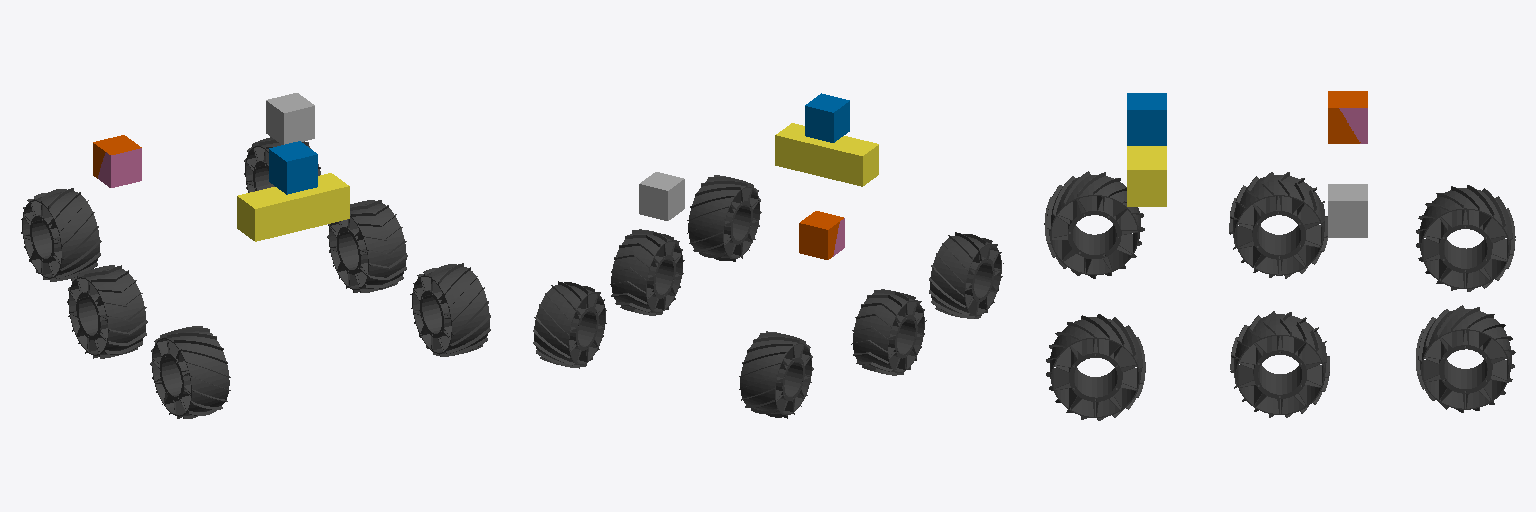
--- Render facts (derived) ---
3 views of the same robot in one strip: view 1: azimuth 30°, elevation 25°; view 2: azimuth 150°, elevation 25°; view 3: azimuth 270°, elevation 25° (orthographic).
Model roar with 16 links and 15 joints (8 continuous, 7 fixed), rooted at base_link, posed all joints at 0.
Visible links, largest first — view 1: wheel_rhs_mid, wheel_lhs_front, wheel_rhs_front, wheel_rhs_rear, wheel_lhs_mid, camera_link, camera_link_optical, left_camera_link, right_camera_link_optical, wheel_lhs_rear, right_camera_link; view 2: wheel_rhs_mid, wheel_lhs_mid, wheel_rhs_rear, wheel_lhs_front, wheel_rhs_front, wheel_lhs_rear, camera_link, left_camera_link, camera_link_optical, right_camera_link; view 3: wheel_rhs_rear, wheel_lhs_front, wheel_lhs_rear, wheel_lhs_mid, wheel_rhs_mid, wheel_rhs_front, camera_link, left_camera_link, camera_link_optical, right_camera_link, right_camera_link_optical.
Boxes of the visible links, x1,y1,x2,y2 form: wheel_rhs_mid: (67,265,147,358); wheel_lhs_front: (410,263,490,356); wheel_rhs_front: (150,326,230,418); wheel_rhs_rear: (21,188,101,281); wheel_lhs_mid: (327,200,407,292); camera_link: (237,173,349,241); camera_link_optical: (269,141,317,194); left_camera_link: (266,93,314,144); right_camera_link_optical: (98,148,141,187); wheel_lhs_rear: (244,137,320,192); right_camera_link: (93,135,141,178); wheel_rhs_mid: (851,289,926,375); wheel_lhs_mid: (610,229,684,315); wheel_rhs_rear: (739,331,813,418); wheel_lhs_front: (687,175,761,261); wheel_rhs_front: (929,232,1003,318); wheel_lhs_rear: (533,281,606,368); camera_link: (775,123,878,186); left_camera_link: (639,172,684,220); camera_link_optical: (805,93,849,142); right_camera_link: (799,211,843,259); wheel_rhs_rear: (1416,185,1515,291); wheel_lhs_front: (1046,314,1145,420); wheel_lhs_rear: (1416,305,1515,412); wheel_lhs_mid: (1230,311,1329,417); wheel_rhs_mid: (1229,172,1327,278); wheel_rhs_front: (1044,171,1144,278); camera_link: (1127,146,1166,206); left_camera_link: (1328,184,1367,237); camera_link_optical: (1127,93,1166,145); right_camera_link: (1328,91,1367,143); right_camera_link_optical: (1339,108,1367,143).
Size in the robot's own frame: 0.949 by 1.17 by 0.6557 metres.
6 mesh visuals loaded from 11 distinct referenced files (6 binary STL); not drawn: 5 (reference not matched to a file when rendering).

URDF robot description (roar):
<?xml version="1.0" encoding="utf-8"?>
<!-- This URDF was automatically created by SolidWorks to URDF Exporter! Originally created by Stephen Brawner ([email redacted]) 
     Commit Version: 1.6.0-4-g7f85cfe  Build Version: 1.6.7995.38578
     For more information, please see http://wiki.ros.org/sw_urdf_exporter -->
<robot name="roar">
    <link name="base_link">
        <inertial>
            <origin xyz="0.628154468741611 0.22696721067361 0.102881142020051" rpy="0 1.5708 0" />
            <mass value="10.4781846932198" />
            <inertia ixx="0.0528232194707055" ixy="-6.76686850711326E-06" ixz="0.000283100285033161" iyy="0.0910292285419052" iyz="0.00115869898869112" izz="0.0533924845818516" />
        </inertial>
        <visual>
            <origin xyz="0 0 0" rpy="0 0 0" />
            <geometry>
                <mesh filename="package://roar/meshes/base_link.STL" />
            </geometry>
            <material name="">
                <color rgba="0.529411764705882 0.549019607843137 0.549019607843137 1" />
            </material>
        </visual>
        <collision>
            <origin xyz="0 0 0" rpy="0 0 0" />
            <geometry>
                <mesh filename="package://roar/meshes/base_link.STL" />
            </geometry>
        </collision>
    </link>
    <link name="rocker_rhs">
        <inertial>
            <origin xyz="-0.588879791118307 -0.202565278061198 -0.471788485285585" rpy="0 0 0" />
            <mass value="1.55415245354648" />
            <inertia ixx="0.00469688805108082" ixy="-4.75066368867248E-05" ixz="-6.63077734400606E-05" iyy="0.0042359619989119" iyz="-0.00126576919351092" izz="0.00312774605286478" />
        </inertial>
        <visual>
            <origin xyz="0 0 0" rpy="0 0 0" />
            <geometry>
                <mesh filename="package://roar/meshes/rocker_rhs.STL" />
            </geometry>
            <material name="">
                <color rgba="0.792156862745098 0.819607843137255 0.933333333333333 1" />
            </material>
        </visual>
        <collision>
            <origin xyz="0 0 0" rpy="0 0 0" />
            <geometry>
                <mesh filename="package://roar/meshes/rocker_rhs.STL" />
            </geometry>
        </collision>
    </link>
    <joint name="rocker_rhs_joint" type="fixed">
        <origin xyz="0.86385 -0.29752 0.15697" rpy="1.6032 0 0" />
        <parent link="base_link" />
        <child link="rocker_rhs" />
        <axis xyz="0 0 0" />
        <mimic joint="rocker_lhs_joint" multiplier="-1" offset="0" />
    </joint>
    <link name="bogie_rhs">
        <inertial>
            <origin xyz="-0.121779882797585 -0.147010396379737 0.00428618479016862" rpy="0 0 0" />
            <mass value="2.56788752987332" />
            <inertia ixx="0.00354223475883779" ixy="-9.37079097068858E-05" ixz="3.07032077749022E-06" iyy="0.00445720497673663" iyz="-9.23136699461395E-06" izz="0.00417625951313541" />
        </inertial>
        <visual>
            <origin xyz="0 0 0" rpy="0 0 0" />
            <geometry>
                <mesh filename="package://roar/meshes/bogie_rhs.STL" />
            </geometry>
            <material name="">
                <color rgba="0.792156862745098 0.819607843137255 0.933333333333333 1" />
            </material>
        </visual>
        <collision>
            <origin xyz="0 0 0" rpy="0 0 0" />
            <geometry>
                <mesh filename="package://roar/meshes/bogie_rhs.STL" />
            </geometry>
        </collision>
    </link>
    <joint name="bogie_rhs_joint" type="continuous">
        <origin xyz="-0.4791452 -0.0993595734680662 0.106037119045641" rpy="-0.000422829507754914 0 0" />
        <parent link="rocker_rhs" />
        <child link="bogie_rhs" />
        <axis xyz="1 0 0" />
    </joint>
    <link name="wheel_rhs_mid">
        <inertial>
            <origin xyz="2.77555756156289E-16 -0.000310098538664844 0.0600063600245654" rpy="0 0 0" />
            <mass value="1.5976653768916" />
            <inertia ixx="0.00836783341696595" ixy="7.83336069620777E-18" ixz="-5.80929048480591E-16" iyy="0.00836775197998545" iyz="-6.24421895881737E-14" izz="0.013244679799626" />
        </inertial>
        <visual>
            <origin xyz="0 0 0" rpy="0 0 0" />
            <geometry>
                <mesh filename="package://roar/meshes/wheel_rhs_mid.STL" />
            </geometry>
            <material name="">
                <color rgba="0.298039215686275 0.298039215686275 0.298039215686275 1" />
            </material>
        </visual>
        <collision>
            <origin xyz="0 0 0" rpy="0 0 0" />
            <geometry>
                <mesh filename="package://roar/meshes/wheel_rhs_mid.STL" />
            </geometry>
        </collision>
    </link>
    <joint name="wheel_rhs_mid_joint" type="continuous">
        <origin xyz="-0.105843639709435 -0.168040322890301 -0.223969764917061" rpy="-1.5707963267949 -1.55435634248108 1.5707963267949" />
        <parent link="bogie_rhs" />
        <child link="wheel_rhs_mid" />
        <axis xyz="0 0 -1" />
    </joint>
    <link name="wheel_rhs_front">
        <inertial>
            <origin xyz="0 -0.000305735305071844 0.0617344385469731" rpy="0 0 0" />
            <mass value="1.55166626304694" />
            <inertia ixx="0.0080033336801287" ixy="-1.55691431968918E-16" ixz="1.99651175617459E-16" iyy="0.00800325326915841" iyz="2.69510666951038E-12" izz="0.0125934306153833" />
        </inertial>
        <visual>
            <origin xyz="0 0 0" rpy="0 0 0" />
            <geometry>
                <mesh filename="package://roar/meshes/wheel_rhs_front.STL" />
            </geometry>
            <material name="">
                <color rgba="0.298039215686275 0.298039215686275 0.298039215686275 1" />
            </material>
        </visual>
        <collision>
            <origin xyz="0 0 0" rpy="0 0 0" />
            <geometry>
                <mesh filename="package://roar/meshes/wheel_rhs_front.STL" />
            </geometry>
        </collision>
    </link>
    <joint name="wheel_rhs_front_joint" type="continuous">
        <origin xyz="-0.104120372913067 -0.152989560052285 0.234508422512043" rpy="1.5707963267949 -1.3957417720161 -1.5707963267949" />
        <parent link="bogie_rhs" />
        <child link="wheel_rhs_front" />
        <axis xyz="0 0 -1" />
    </joint>
    <link name="wheel_rhs_rear">
        <inertial>
            <origin xyz="5.16253706450698E-15 -0.000151545638850392 -0.0600149113817935" rpy="0 0 0" />
            <mass value="1.55167119278224" />
            <inertia ixx="0.00800323403290156" ixy="1.03608384283551E-16" ixz="1.81788099833912E-17" iyy="0.00800315362181798" iyz="-1.09712892188598E-10" izz="0.0125935069824427" />
        </inertial>
        <visual>
            <origin xyz="0 0 0" rpy="0 0 0" />
            <geometry>
                <mesh filename="package://roar/meshes/wheel_rhs_rear.STL" />
            </geometry>
            <material name="">
                <color rgba="0.298039215686275 0.298039215686275 0.298039215686275 1" />
            </material>
        </visual>
        <collision>
            <origin xyz="0 0 0" rpy="0 0 0" />
            <geometry>
                <mesh filename="package://roar/meshes/wheel_rhs_rear.STL" />
            </geometry>
        </collision>
    </link>
    <joint name="wheel_rhs_rear_joint" type="continuous">
        <origin xyz="-0.584979822050631 -0.263677087326028 -0.581172663312622" rpy="1.5707963267949 -1.53841624288961 1.5707963267949" />
        <parent link="rocker_rhs" />
        <child link="wheel_rhs_rear" />
        <axis xyz="0 0 1" />
    </joint>
    <link name="rocker_lhs">
        <inertial>
            <origin xyz="0.114353485211954 -0.258908242851102 -0.34996961371163" rpy="0 0 0" />
            <mass value="1.55450623077954" />
            <inertia ixx="0.00469693111237126" ixy="4.68499301936463E-05" ixz="6.67737419137413E-05" iyy="0.00426118802029626" iyz="-0.00125443776320647" izz="0.00310258328258568" />
        </inertial>
        <visual>
            <origin xyz="0 0 0" rpy="0 0 0" />
            <geometry>
                <mesh filename="package://roar/meshes/rocker_lhs.STL" />
            </geometry>
            <material name="">
                <color rgba="0.792156862745098 0.819607843137255 0.933333333333333 1" />
            </material>
        </visual>
        <collision>
            <origin xyz="0 0 0" rpy="0 0 0" />
            <geometry>
                <mesh filename="package://roar/meshes/rocker_lhs.STL" />
            </geometry>
        </collision>
    </link>
    <joint name="rocker_lhs_joint" type="fixed">
        <origin xyz="0.87735 -0.17534 0.22095" rpy="1.5932 0 0" />
        <parent link="base_link" />
        <child link="rocker_lhs" />
        <axis xyz="1 0 0" />
        <mimic joint="rocker_rhs_joint" multiplier="-1" offset="0" />
    </joint>
    <link name="bogie_lhs">
        <inertial>
            <origin xyz="-0.121779882817317 -0.147010395964878 0.0042861851364438" rpy="0 0 0" />
            <mass value="2.56788753304685" />
            <inertia ixx="0.00354223473986378" ixy="-9.37079107482255E-05" ixz="3.0703209576201E-06" iyy="0.00445720496031797" iyz="-9.23137037014214E-06" izz="0.00417625951286774" />
        </inertial>
        <visual>
            <origin xyz="0 0 0" rpy="0 0 0" />
            <geometry>
                <mesh filename="package://roar/meshes/bogie_lhs.STL" />
            </geometry>
            <material name="">
                <color rgba="0.792156862745098 0.819607843137255 0.933333333333333 1" />
            </material>
        </visual>
        <collision>
            <origin xyz="0 0 0" rpy="0 0 0" />
            <geometry>
                <mesh filename="package://roar/meshes/bogie_lhs.STL" />
            </geometry>
        </collision>
    </link>
    <joint name="bogie_lhs_joint" type="continuous">
        <origin xyz="0.00464519999999913 -0.161653502558278 0.228622276059535" rpy="-3.103409507382 0 3.14159265358979" />
        <parent link="rocker_lhs" />
        <child link="bogie_lhs" />
        <axis xyz="1 0 0" />
    </joint>
    <link name="wheel_lhs_mid">
        <inertial>
            <origin xyz="1.11022302462516E-16 0.000310098538664469 0.0600061613680263" rpy="0 0 0" />
            <mass value="1.59766537689161" />
            <inertia ixx="0.00836783341696619" ixy="1.29373834503413E-16" ixz="-2.80058969704328E-16" iyy="0.00836775197998591" iyz="-6.25094799243326E-14" izz="0.0132446797996265" />
        </inertial>
        <visual>
            <origin xyz="0 0 0" rpy="0 0 0" />
            <geometry>
                <mesh filename="package://roar/meshes/wheel_lhs_mid.STL" />
            </geometry>
            <material name="">
                <color rgba="0.298039215686275 0.298039215686275 0.298039215686275 1" />
            </material>
        </visual>
        <collision>
            <origin xyz="0 0 0" rpy="0 0 0" />
            <geometry>
                <mesh filename="package://roar/meshes/wheel_lhs_mid.STL" />
            </geometry>
        </collision>
    </link>
    <joint name="wheel_lhs_mid_joint" type="continuous">
        <origin xyz="-0.105848638897971 -0.152989560052285 0.234508422512043" rpy="1.5707963267949 1.55499473336566 -1.5707963267949" />
        <parent link="bogie_lhs" />
        <child link="wheel_lhs_mid" />
        <axis xyz="0 0 1" />
    </joint>
    <link name="wheel_lhs_front">
        <inertial>
            <origin xyz="4.44089209850063E-16 0.000305735786541 0.060015644846366" rpy="0 0 0" />
            <mass value="1.55167119278224" />
            <inertia ixx="0.00800323403290163" ixy="8.91853103967615E-17" ixz="-4.17317215902999E-17" iyy="0.00800315362181804" iyz="-1.09712875805014E-10" izz="0.0125935069824428" />
        </inertial>
        <visual>
            <origin xyz="0 0 0" rpy="0 0 0" />
            <geometry>
                <mesh filename="package://roar/meshes/wheel_lhs_front.STL" />
            </geometry>
            <material name="">
                <color rgba="0.298039215686275 0.298039215686275 0.298039215686275 1" />
            </material>
        </visual>
        <collision>
            <origin xyz="0 0 0" rpy="0 0 0" />
            <geometry>
                <mesh filename="package://roar/meshes/wheel_lhs_front.STL" />
            </geometry>
        </collision>
    </link>
    <joint name="wheel_lhs_front_joint" type="continuous">
        <origin xyz="-0.105834821721208 -0.168040322890301 -0.223969764917061" rpy="1.5707963267949 1.55499473336566 -1.5707963267949" />
        <parent link="bogie_lhs" />
        <child link="wheel_lhs_front" />
        <axis xyz="0 0 1" />
    </joint>
    <link name="wheel_lhs_rear">
        <inertial>
            <origin xyz="3.33066907387547E-16 0.000305735305071567 0.0617344149234693" rpy="0 0 0" />
            <mass value="1.55166626304695" />
            <inertia ixx="0.00800333368012839" ixy="1.77188388226247E-16" ixz="4.18999155475545E-16" iyy="0.00800325326915777" iyz="2.69448655896479E-12" izz="0.0125934306153828" />
        </inertial>
        <visual>
            <origin xyz="0 0 0" rpy="0 0 0" />
            <geometry>
                <mesh filename="package://roar/meshes/wheel_lhs_rear.STL" />
            </geometry>
            <material name="">
                <color rgba="0.298039215686275 0.298039215686275 0.298039215686275 1" />
            </material>
        </visual>
        <collision>
            <origin xyz="0 0 0" rpy="0 0 0" />
            <geometry>
                <mesh filename="package://roar/meshes/wheel_lhs_rear.STL" />
            </geometry>
        </collision>
    </link>
    <joint name="wheel_lhs_rear_joint" type="continuous">
        <origin xyz="0.108765573616486 -0.319091829106825 -0.460196062592258" rpy="1.5707963267949 -1.54841477401632 1.5707963267949" />
        <parent link="rocker_lhs" />
        <child link="wheel_lhs_rear" />
        <axis xyz="0 0 1" />
    </joint>
    <!--  zed camera  -->
    <link name="camera_link">
        <visual>
            <origin xyz="0.0 0.0 0.0" rpy="3.14159 3.14159 1.5708"/>
            <geometry>
                <box size="0.3 0.1 0.1"/>
            </geometry>
            <material name="red"/>
        </visual>
        <collision>
            <origin xyz="0.0 0.0 0.0" rpy="3.14159 3.14159 1.5708"/>
            <geometry>
                <box size="0.3 0.1 0.1"/>
            </geometry>
        </collision>
        <inertial>
            <mass value="0.01"/>
            <origin xyz="0 0 0" rpy="3.14159 3.14159 1.5708"/>
            <inertia ixx="0.0001" ixy="0.0" ixz="0.0" iyy="0.0001" iyz="0.0" izz="0.0001"/>
        </inertial>
    </link>
    <joint name="camera_joint" type="fixed">
        <origin xyz="0.62 -0.5 0.25" rpy="3.14159 3.14159 1.5708"/>
        <parent link="base_link"/>
        <child link="camera_link"/>
    </joint>
    <link name="camera_link_optical">
        <visual>
            <origin xyz="0.0 -0.12 0.0" rpy="-1.5708 0 -1.5708"/>
            <geometry>
                <box size="0.1 0.1 0.1"/>
            </geometry>
        </visual>
        <collision>
            <origin xyz="0.0 0.0 0.0" rpy="-1.5708 0 -1.5708"/>
            <geometry>
                <box size="0.1 0.1 0.1"/>
            </geometry>
        </collision>
        <inertial>
            <mass value="0.01"/>
            <origin xyz="0 0 0" rpy="-1.5708 0 -1.5708"/>
            <inertia ixx="0.0001" ixy="0.0" ixz="0.0" iyy="0.0001" iyz="0.0" izz="0.0001"/>
        </inertial>
    </link>
    <joint name="camera_joint_optical" type="fixed">
        <origin xyz="0 0 0" rpy="-1.5708 0 -1.5708" />
        <parent link="camera_link" />
        <child link="camera_link_optical" />
    </joint>

    <gazebo reference="camera_link">
        <sensor name="camera_sensor" type="depth">
            <update_rate>20</update_rate>
            <camera>
                <horizontal_fov>2.0944</horizontal_fov>
                <image>
                    <width>640</width>
                    <height>480</height>
                    <format>B8G8R8</format>
                </image>
                <clip>
                    <near>0.1</near>
                    <far>15</far>
                </clip>
            </camera>
            <plugin name="kinect" filename="libgazebo_ros_openni_kinect.so">
                <robotNamespace>/roar</robotNamespace>
                <alwaysOn>true</alwaysOn>
                <updateRate>0.0</updateRate>
                <cameraName>camera</cameraName>
                <imageTopicName>rgb/image_raw</imageTopicName>
                <depthImageTopicName>depth/image_raw</depthImageTopicName>
                <cameraInfoTopicName>rgb/camera_info</cameraInfoTopicName>
                <depthImageCameraInfoTopicName>depth/camera_info</depthImageCameraInfoTopicName>
                <pointCloudTopicName>depth/points</pointCloudTopicName>
                <!-- <depthFrameName>camera_link_optical</depthFrameName>  -->
                <frameName>camera_link_optical</frameName>
                <pointCloudCutoff>0.4</pointCloudCutoff>
                <pointCloudCutoffMax>10.0</pointCloudCutoffMax>
                <hackBaseline>0.07</hackBaseline>
                <distortionK1>0.0</distortionK1>
                <distortionK2>0.0</distortionK2>
                <distortionK3>0.0</distortionK3>
                <distortionT1>0.0</distortionT1>
                <distortionT2>0.0</distortionT2>
            </plugin>
        </sensor>
    </gazebo>

    <!-- right camera    -->
    <link name="right_camera_link">
        <visual>
            <origin xyz=" -0.35 0 0.0" rpy="3.14159 3.14159 0 "/>
            <geometry>
                <box size="0.1 0.1 0.1"/>
            </geometry>
            <material name="green"/>
        </visual>
        <collision>
            <origin xyz=" -0.35 0 0.0" rpy=" 3.14159 3.14159 0"/>
            <geometry>
                <box size="0.1 0.1 0.1"/>
            </geometry>
        </collision>
        <inertial>
            <mass value="0.01"/>
            <origin xyz="-0.35 0 0" rpy="3.14159 3.14159 0"/>
            <inertia ixx="0.0001" ixy="0.0" ixz="0.0" iyy="0.0001" iyz="0.0" izz="0.0001"/>
        </inertial>
    </link>
    <joint name="right_camera_joint" type="fixed">
        <origin xyz="0.0 0.0 0.25" rpy="3.14159 3.14159 0"/>
        <parent link="base_link"/>
        <child link="right_camera_link"/>
    </joint>
    <link name="right_camera_link_optical">
        <visual>
            <origin xyz="0 0.0 -0.35" rpy="-1.5708 3.14159 -1.5708"/>
            <geometry>
                <box size="0.1 0.1 0.1"/>
            </geometry>
        </visual>
        <collision>
            <origin xyz="0 0.0 -0.35" rpy="-1.5708 3.14159 -1.5708"/>
            <geometry>
                <box size="0.1 0.1 0.1"/>
            </geometry>
        </collision>
        <inertial>
            <mass value="0.01"/>
            <origin xyz="0 0 -0.35" rpy="-1.5708 3.14159 -1.5708"/>
            <inertia ixx="0.0001" ixy="0.0" ixz="0.0" iyy="0.0001" iyz="0.0" izz="0.0001"/>
        </inertial>
    </link>
    <joint name="right_camera_joint_optical" type="fixed">
        <origin xyz="0 0 0" rpy="-1.5708 3.14159 -1.5708" />
        <parent link="right_camera_link" />
        <child link="right_camera_link_optical" />
    </joint>
    <gazebo reference="right_camera_link">
        <sensor name="right_camera_sensor" type="camera">
            <update_rate>20</update_rate>
            <camera>
                <horizontal_fov>2.0944</horizontal_fov>
                <image>
                    <width>640</width>
                    <height>480</height>
                    <format>B8G8R8</format>
                </image>
                <clip>
                    <near>0.03</near>
                    <far>4</far>
                </clip>
            </camera>
            <plugin name="right_camera_plugin" filename="libgazebo_ros_camera.so">
                <robotNamespace>/roar</robotNamespace>
                <frameName>right_camera_link_optical</frameName>
                <min_depth>0.1</min_depth>
                <max_depth>100.0</max_depth>
                <cameraName>right_camera</cameraName>
                <imageTopic>right_camera/image_raw</imageTopic>
            </plugin>
        </sensor>
    </gazebo>

    <!-- left camera     -->
    <link name="left_camera_link">
        <visual>
            <origin xyz="-0.3 0 0" rpy="3.14159 3.14159 3.14159"/>
            <geometry>
                <box size="0.1 0.1 0.1"/>
            </geometry>
            <material name="blue"/>
        </visual>
        <collision>
            <origin xyz="-0.3 0 0" rpy=" 3.14159 3.14159 3.14159"/>
            <geometry>
                <box size="0.1 0.1 0.1"/>
            </geometry>
        </collision>
        <inertial>
            <mass value="0.01"/>
            <origin xyz="-0.3 0 0" rpy="3.14159 3.14159 3.14159"/>
            <inertia ixx="0.0001" ixy="0.0" ixz="0.0" iyy="0.0001" iyz="0.0" izz="0.0001"/>
        </inertial>
    </link>
    <joint name="left_camera_joint" type="fixed">
        <origin xyz="1.2 0.0 0.25" rpy="3.14159 3.14159 3.14159"/>
        <parent link="base_link"/>
        <child link="left_camera_link"/>
    </joint>
    <!-- <link name="left_camera_link_optical">
    <visual>
      <origin xyz="0 -2 0" rpy="1.5708 3.14159 1.5708"/>
      <geometry>
        <box size="0.1 0.1 0.1"/>
      </geometry>
    </visual>
    <collision>
      <origin xyz="0 -2 0" rpy="1.5708 3.14159 1.5708"/>
      <geometry>
        <box size="0.1 0.1 0.1"/>
      </geometry>
    </collision>
    <inertial>
      <mass value="0.01"/>
      <origin xyz="0 -2 0" rpy="1.5708 3.14159 1.5708"/>
      <inertia ixx="0.0001" ixy="0.0" ixz="0.0" iyy="0.0001" iyz="0.0" izz="0.0001"/>
    </inertial>
  </link>
  <joint name="left_camera_joint_optical" type="fixed">
    <origin xyz="-2 0 0" rpy="3.14159 3.14159 4.71239"/>
    <parent link="left_camera_link" />
    <child link="left_camera_link_optical" />
  </joint> -->
    <gazebo reference="left_camera_link">
        <sensor name="left_camera_sensor" type="camera">
            <update_rate>20</update_rate>
            <camera>
                <horizontal_fov>2.0944</horizontal_fov>
                <image>
                    <width>640</width>
                    <height>480</height>
                    <format>B8G8R8</format>
                </image>
                <clip>
                    <near>0.03</near>
                    <far>4</far>
                </clip>
            </camera>
            <plugin name="left_camera_plugin" filename="libgazebo_ros_camera.so">
                <robotNamespace>/roar</robotNamespace>
                <frameName>left_camera_link</frameName>
                <min_depth>0.1</min_depth>
                <max_depth>100.0</max_depth>
                <cameraName>left_camera</cameraName>
                <imageTopic>left_camera/image_raw</imageTopic>
            </plugin>
        </sensor>
    </gazebo>
    <!-- ROS Control plugin for Gazebo-->
    <gazebo>
        <plugin name="gazebo_ros_control" filename="libgazebo_ros_control.so">
            <robotNamespace>/roar</robotNamespace>
        </plugin>
    </gazebo>

    <!--transmission-->
    <transmission name="wheel_lhs_front_transmission">
        <type>transmission_interface/SimpleTransmission</type>
        <joint name="wheel_lhs_front_joint">
            <hardwareInterface>hardware_interface/VelocityJointInterface</hardwareInterface>
        </joint>
        <actuator name="wheel_lhs_front_motor">
            <mechanicalReduction>1</mechanicalReduction>
        </actuator>
    </transmission>

    <transmission name="wheel_lhs_mid_transmission">
        <type>transmission_interface/SimpleTransmission</type>
        <joint name="wheel_lhs_mid_joint">
            <hardwareInterface>hardware_interface/VelocityJointInterface</hardwareInterface>
        </joint>
        <actuator name="wheel_lhs_mid_motor">
            <mechanicalReduction>1</mechanicalReduction>
        </actuator>
    </transmission>

    <transmission name="wheel_lhs_rear_transmission">
        <type>transmission_interface/SimpleTransmission</type>
        <joint name="wheel_lhs_rear_joint">
            <hardwareInterface>hardware_interface/VelocityJointInterface</hardwareInterface>
        </joint>
        <actuator name="wheel_lhs_rear_motor">
            <mechanicalReduction>1</mechanicalReduction>
        </actuator>
    </transmission>

    <transmission name="wheel_rhs_front_transmission">
        <type>transmission_interface/SimpleTransmission</type>
        <joint name="wheel_rhs_front_joint">
            <hardwareInterface>hardware_interface/VelocityJointInterface</hardwareInterface>
        </joint>
        <actuator name="wheel_rhs_front_motor">
            <mechanicalReduction>1</mechanicalReduction>
        </actuator>
    </transmission>

    <transmission name="wheel_rhs_mid_transmission">
        <type>transmission_interface/SimpleTransmission</type>
        <joint name="wheel_rhs_mid_joint">
            <hardwareInterface>hardware_interface/VelocityJointInterface</hardwareInterface>
        </joint>
        <actuator name="wheel_rhs_mid_motor">
            <mechanicalReduction>1</mechanicalReduction>
        </actuator>
    </transmission>

    <transmission name="wheel_rhs_rear_transmission">
        <type>transmission_interface/SimpleTransmission</type>
        <joint name="wheel_rhs_rear_joint">
            <hardwareInterface>hardware_interface/VelocityJointInterface</hardwareInterface>
        </joint>
        <actuator name="wheel_rhs_rear_motor">
            <mechanicalReduction>1</mechanicalReduction>
        </actuator>
    </transmission>

</robot>
